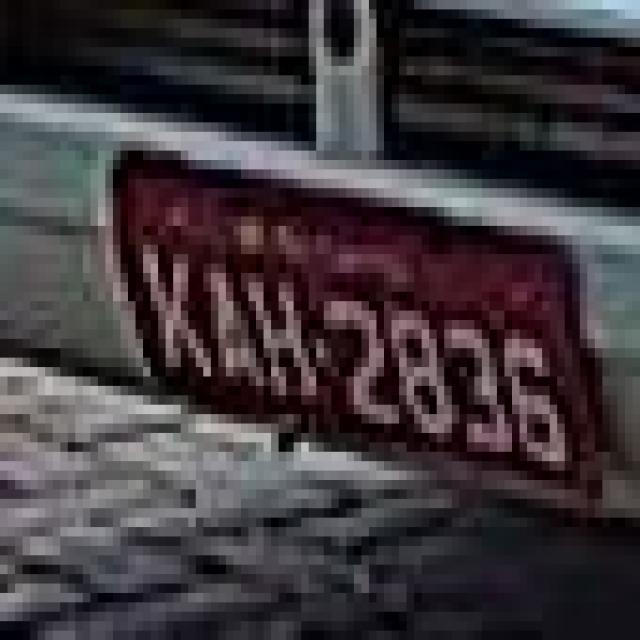3: (441, 309, 508, 460)
6: (494, 313, 574, 475)
8: (386, 297, 454, 443)
A: (196, 250, 256, 417)
H: (248, 262, 316, 413)
K: (140, 226, 212, 392)
